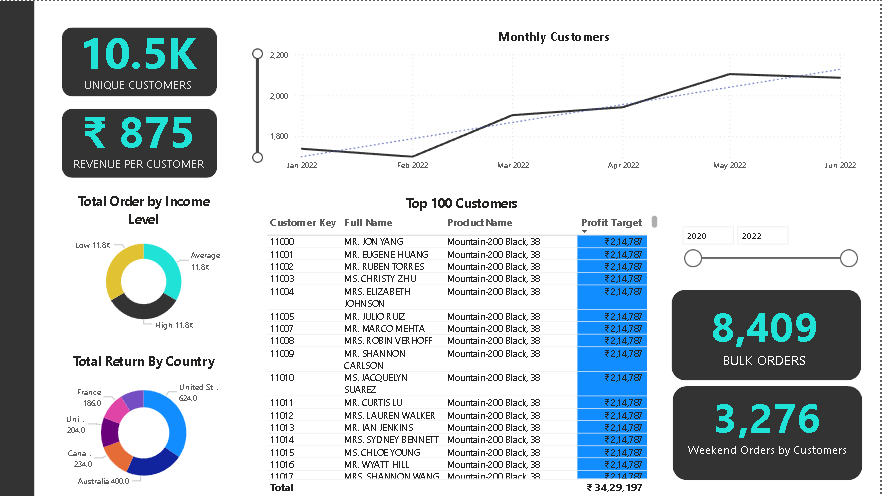

This screenshot's page, from the dashboard's own definition file:
{"tool":"powerbi","page":{"name":"Customer Detail","canvas":[1280,720],"ordinal":3},"visuals":[{"type":"shape","box":[0,0,50,720],"z":0},{"type":"shape","box":[89.3,39,225.8,100.7],"z":1000},{"type":"shape","box":[89.3,157.1,225.8,100.7],"z":2000},{"type":"card","fields":{"Values":["Measure Table.Total Customers"]},"box":[61.7,0,277.8,162.4],"z":3000},{"type":"card","fields":{"Values":["Measure Table.Average Revenue per Customer"]},"box":[61.7,114.9,277.8,162.4],"z":4000},{"type":"lineChart","title":"Monthly Customers","fields":{"Y":["Measure Table.Total Customers"],"Category":["Calendar Lookup.Start of Month"]},"box":[363.8,39,886.9,219.3],"z":4001},{"type":"donutChart","fields":{"Category":["Customer Lookup.Income Level"],"Y":["Measure Table.Total Orders"]},"box":[90.1,277.3,237.5,209.7],"z":4002},{"type":"donutChart","title":"Total Return By Country","fields":{"Y":["Measure Table.Total Returns"],"Category":["Territory Lookup.Country"]},"box":[90.1,509.6,237.5,209.7],"z":4003},{"type":"tableEx","title":"Top 100 Customers","fields":{"Values":["Customer Lookup.CustomerKey","Customer Lookup.Full Name","Product Lookup.ProductName","Measure Table.Profit Target"]},"box":[381.9,279.5,579.8,440.9],"z":4004},{"type":"shape","box":[977.3,420.1,276,131.9],"z":4005},{"type":"card","fields":{"Values":["Measure Table.Bulk Orders"]},"box":[977.3,402.7,270.8,158],"z":4007},{"type":"shape","box":[979,560.7,276,137.1],"z":4008},{"type":"card","fields":{"Values":["Measure Table.Weekend Orders"]},"box":[979,553.7,276,119.8],"z":4009},{"type":"slicer","fields":{"Values":["Calendar Lookup.Year"]},"box":[979.5,318.4,276.1,84.5],"z":4010}]}

Visuals, with their boxes in screenshot pixels (x1, y1, x2, y2), scaled from the page's 1280x720 canvas onto the 884x496 screenshot:
shape: 0:0:35:495
shape: 62:27:218:96
shape: 62:108:218:178
card - Measure Table.Total Customers: 43:0:234:112
card - Measure Table.Average Revenue per Customer: 43:79:234:191
"Monthly Customers" lineChart: 251:27:864:178
donutChart - Customer Lookup.Income Level x Measure Table.Total Orders: 62:191:226:335
"Total Return By Country" donutChart: 62:351:226:495
"Top 100 Customers" tableEx: 264:193:664:495
shape: 675:289:866:380
card - Measure Table.Bulk Orders: 675:277:862:386
shape: 676:386:867:481
card - Measure Table.Weekend Orders: 676:381:867:464
slicer - Calendar Lookup.Year: 676:219:867:278
